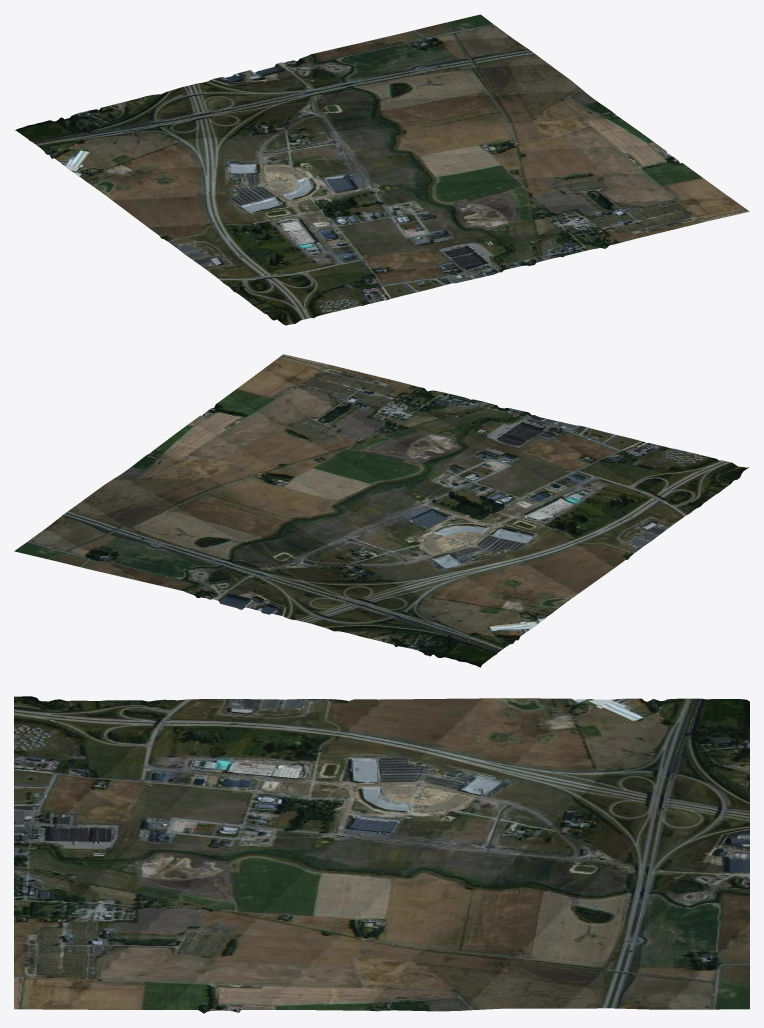
The model's file is map_10_251_428.dae.
3 views of the same model, one above another, from view 1: azimuth 30°, elevation 25°; view 2: azimuth 150°, elevation 25°; view 3: azimuth 270°, elevation 25° (orthographic). The views are drawn at different scales.
Visible parts, largest first — view 1: Ter0; view 2: Ter0; view 3: Ter0.
Boxes of the visible parts, bbox=[...] form: Ter0: bbox=[15, 14, 749, 325]; Ter0: bbox=[14, 354, 749, 667]; Ter0: bbox=[14, 696, 749, 1013].
Bounding box in the file's own units: 2044 × 2044 × 33.58.
3 materials, 3 textured.
